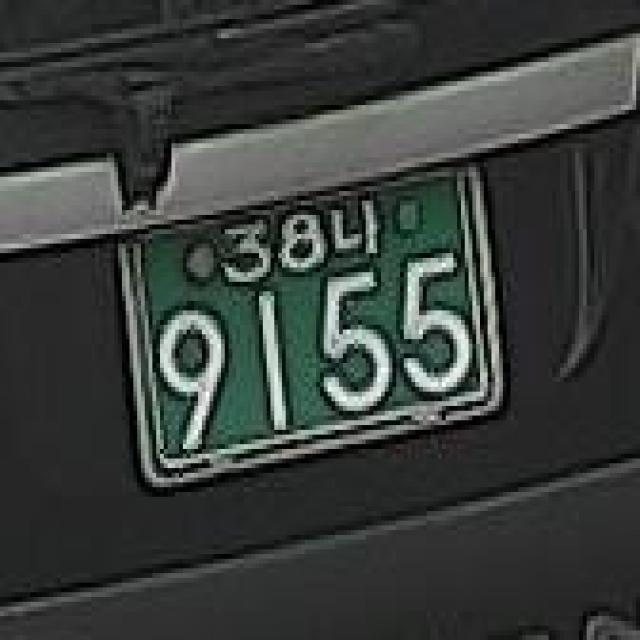illegal_plate: (112, 152, 514, 500)
